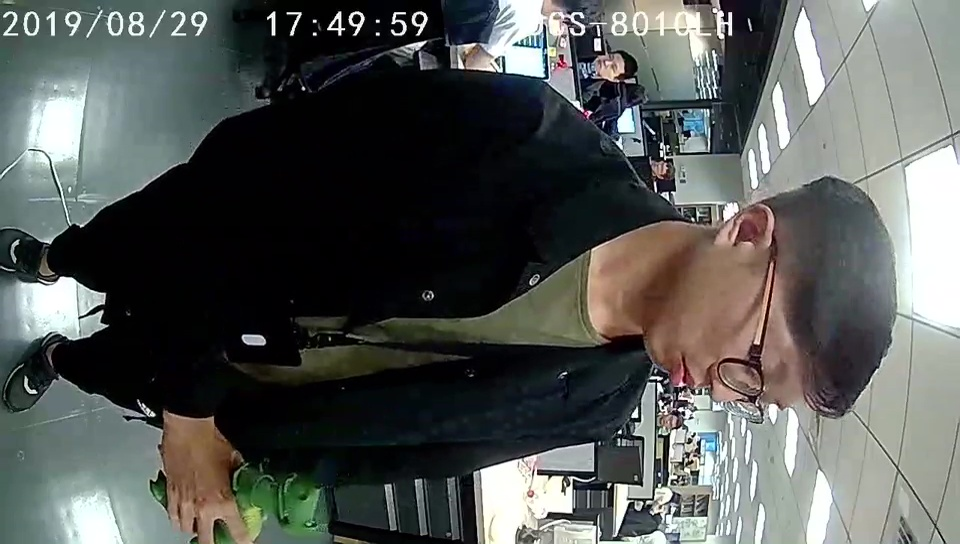rex: (150, 455, 322, 544)
